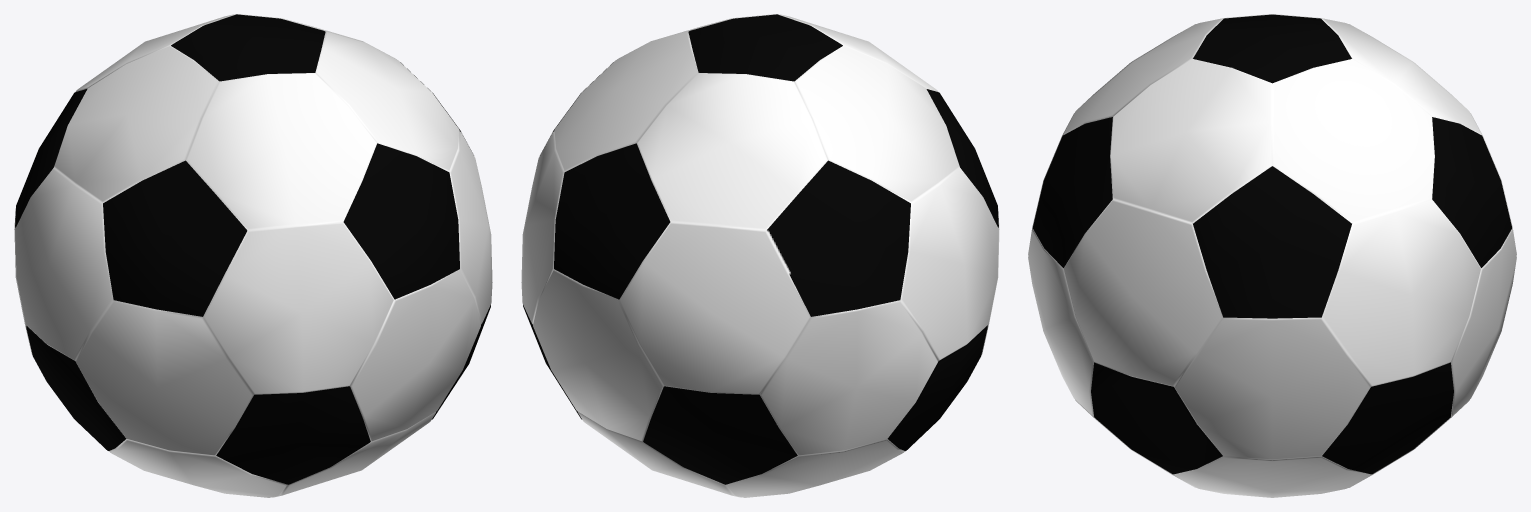
3 renders of one model, left to right at view 1: azimuth 30°, elevation 25°; view 2: azimuth 150°, elevation 25°; view 3: azimuth 270°, elevation 25°, orthographic.
Visible parts, largest first — view 1: ball_low; view 2: ball_low; view 3: ball_low.
Boxes of the visible parts, x1=… form: ball_low: x1=14, y1=14, x2=492, y2=497; ball_low: x1=521, y1=14, x2=999, y2=497; ball_low: x1=1028, y1=14, x2=1516, y2=497.
Size of the model in its own units: 2.69 by 2.71 by 2.72.
1 material, 1 textured.
